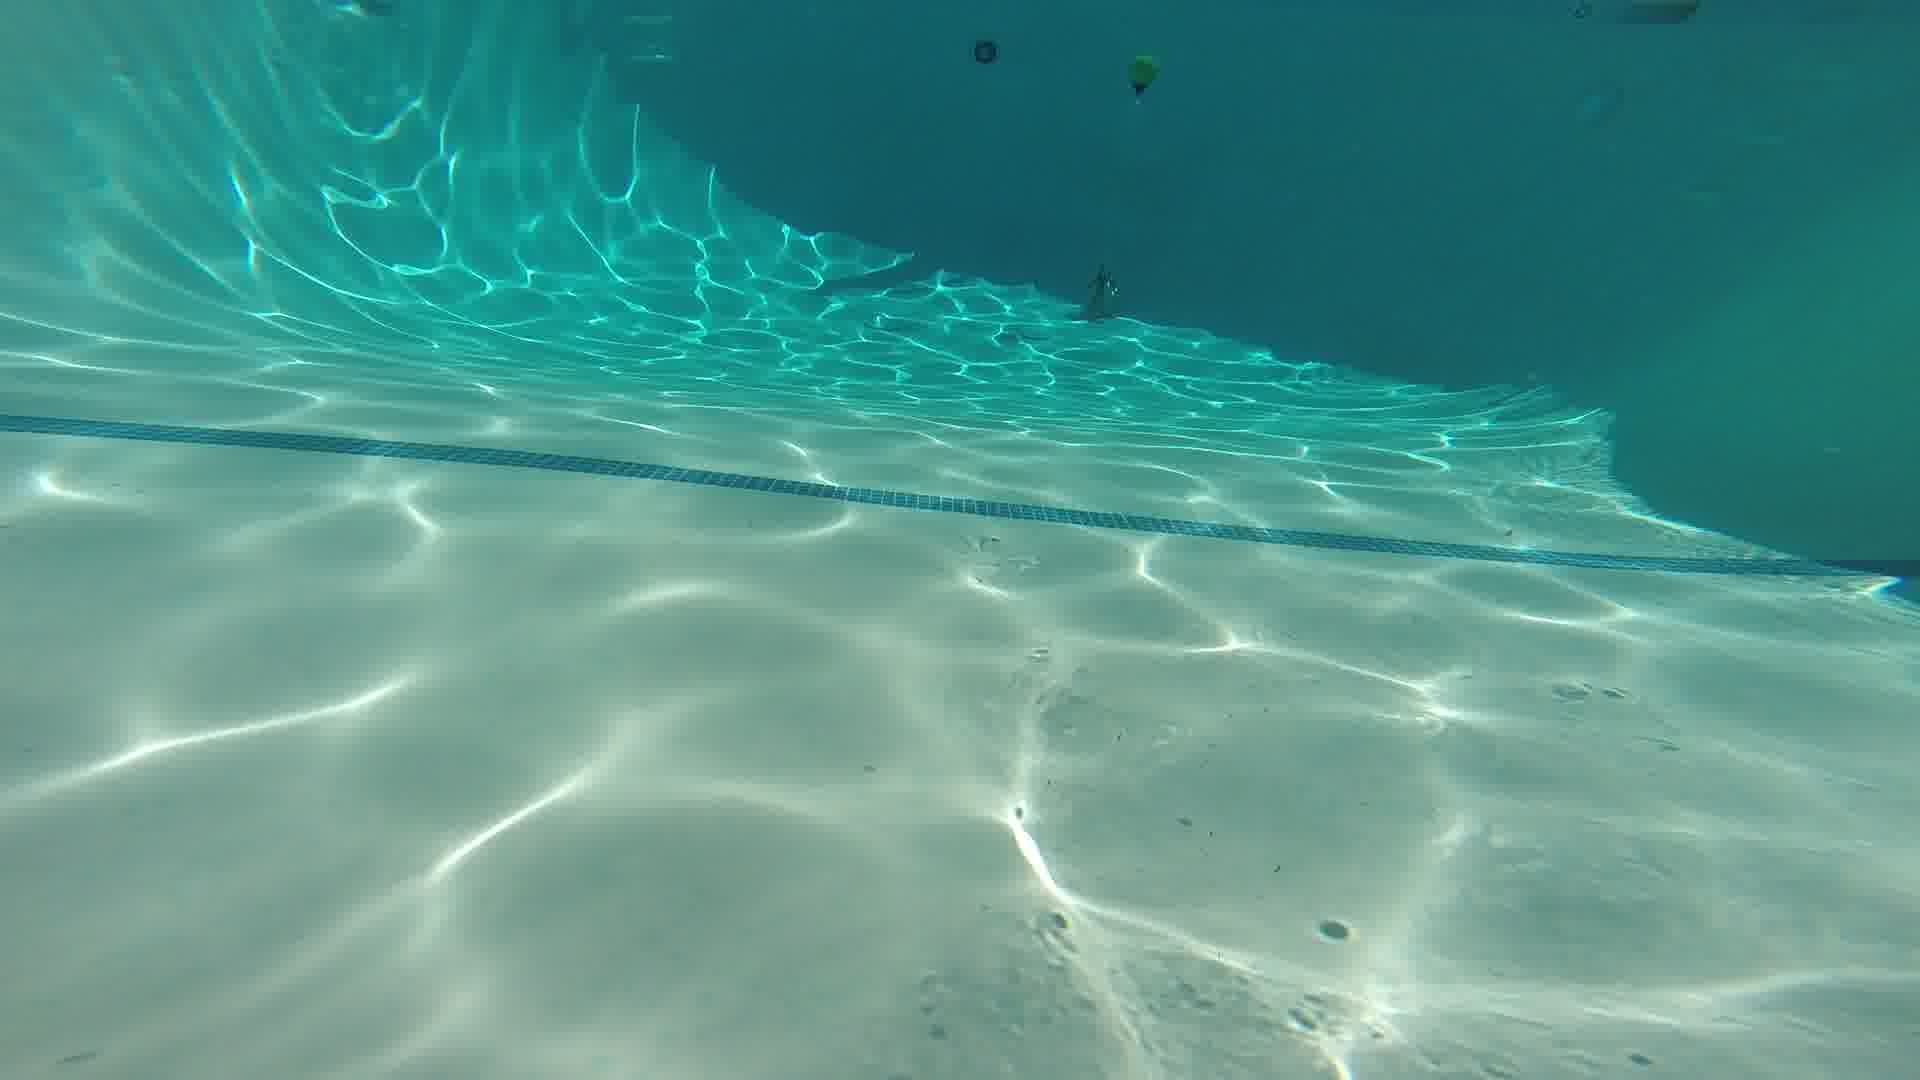yellow_buoy: (1125, 51, 1162, 96)
